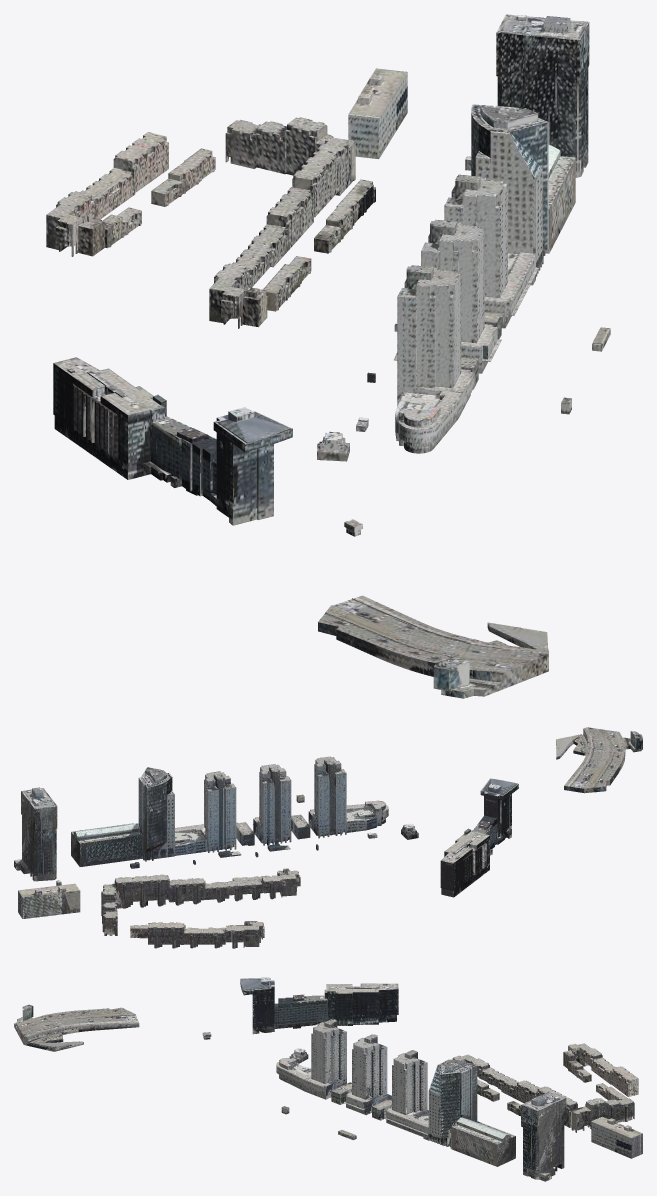
Rendered from rotterdam_boompjes.glb.
3 renders of one model, top to bottom at view 1: azimuth 30°, elevation 25°; view 2: azimuth 150°, elevation 25°; view 3: azimuth 270°, elevation 25°, orthographic. The views are drawn at different scales.
Visible parts, largest first — view 1: CITY_MODEL; view 2: CITY_MODEL; view 3: CITY_MODEL.
Boxes of the visible parts, x1,y1,x2,y2 form: CITY_MODEL: (46, 14, 610, 698); CITY_MODEL: (14, 727, 642, 948); CITY_MODEL: (14, 977, 642, 1181).
Size of the model in its own units: 387 by 83.05 by 609.
1 material, 1 textured.
